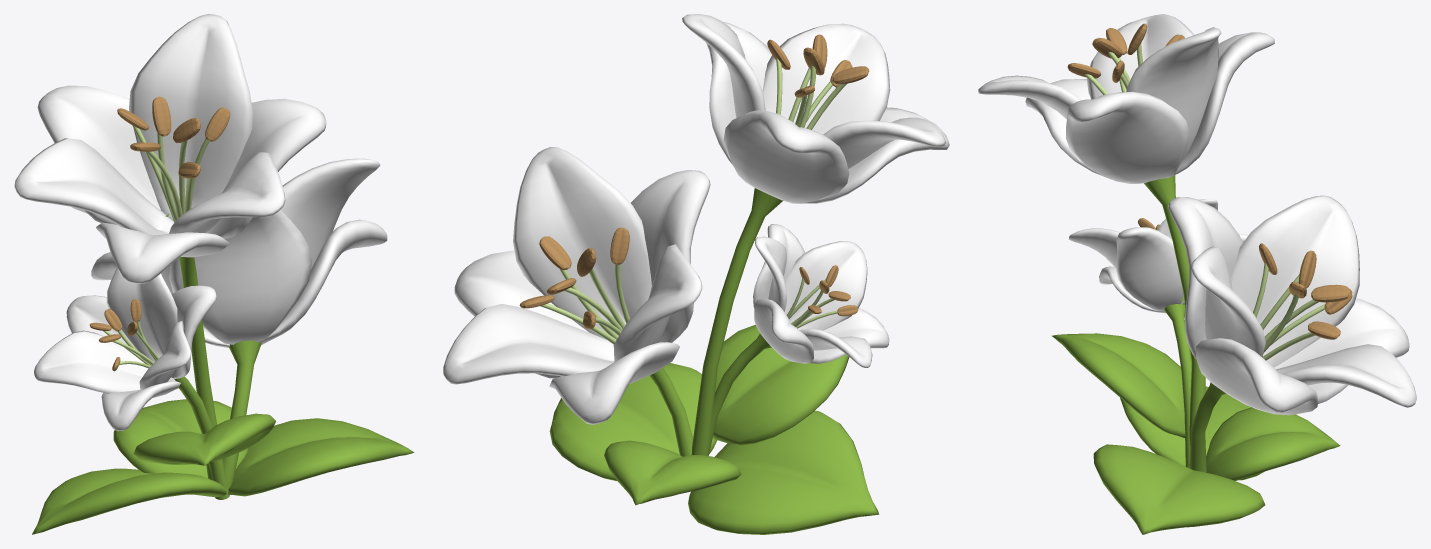
The model's file is Lily_3.fbx.
3 views of the same model, side by side, from view 1: azimuth 30°, elevation 25°; view 2: azimuth 150°, elevation 25°; view 3: azimuth 270°, elevation 25° (orthographic). The views are drawn at different scales.
Parts seen in each view (by area): view 1: Plane.012, Plane.003, Leaf.003, Plane.013, Plane.015, Leaf.002, Plane.001, Plane.017, Plane.024, Plane.014, Plane.016, Leaf.004 (+14 smaller); view 2: Plane.001, Leaf.002, Plane.002, Leaf.004, Plane.015, Plane.014, Leaf.003, Plane.003, Leaf.005, Plane.025, Plane.005, NurbsPath.020 (+15 smaller); view 3: Plane, Leaf.003, Plane.017, Leaf.004, Leaf.005, Plane.012, Plane.004, Plane.002, Plane.003, Plane.028, Plane.001, Plane.005 (+11 smaller).
Boxes of the visible parts, x1=… form: Plane.012: x1=129, y1=14, x2=252, y2=221; Plane.003: x1=169, y1=210, x2=312, y2=344; Leaf.003: x1=227, y1=418, x2=414, y2=496; Plane.013: x1=14, y1=138, x2=173, y2=235; Plane.015: x1=37, y1=85, x2=160, y2=224; Leaf.002: x1=32, y1=468, x2=226, y2=534; Plane.001: x1=280, y1=158, x2=380, y2=269; Plane.017: x1=205, y1=98, x2=326, y2=238; Plane.024: x1=34, y1=330, x2=148, y2=393; Plane.014: x1=169, y1=152, x2=285, y2=233; Plane.016: x1=96, y1=222, x2=228, y2=283; Leaf.004: x1=133, y1=413, x2=276, y2=465; Plane.001: x1=513, y1=147, x2=651, y2=339; Leaf.002: x1=688, y1=410, x2=879, y2=534; Plane.002: x1=443, y1=304, x2=614, y2=384; Leaf.004: x1=712, y1=324, x2=849, y2=445; Plane.015: x1=723, y1=110, x2=849, y2=203; Plane.014: x1=762, y1=23, x2=890, y2=134; Leaf.003: x1=549, y1=363, x2=717, y2=481; Plane.003: x1=631, y1=170, x2=710, y2=342; Leaf.005: x1=604, y1=440, x2=741, y2=505; Plane.025: x1=784, y1=241, x2=867, y2=330; Plane.005: x1=549, y1=342, x2=679, y2=424; NurbsPath.020: x1=691, y1=188, x2=782, y2=455; Plane: x1=1231, y1=195, x2=1359, y2=367; Leaf.003: x1=1093, y1=444, x2=1265, y2=534; Plane.017: x1=1066, y1=92, x2=1189, y2=183; Leaf.004: x1=1052, y1=333, x2=1185, y2=437; Leaf.005: x1=1206, y1=407, x2=1340, y2=480; Plane.012: x1=1126, y1=27, x2=1221, y2=160; Plane.004: x1=1196, y1=338, x2=1318, y2=415; Plane.002: x1=1275, y1=344, x2=1416, y2=407; Plane.003: x1=1168, y1=197, x2=1243, y2=359; Plane.028: x1=1116, y1=227, x2=1183, y2=311; Plane.001: x1=1191, y1=246, x2=1265, y2=357; Plane.005: x1=1274, y1=298, x2=1409, y2=403.
Size of the model in its own units: 0.9645 by 0.8983 by 1.03.
